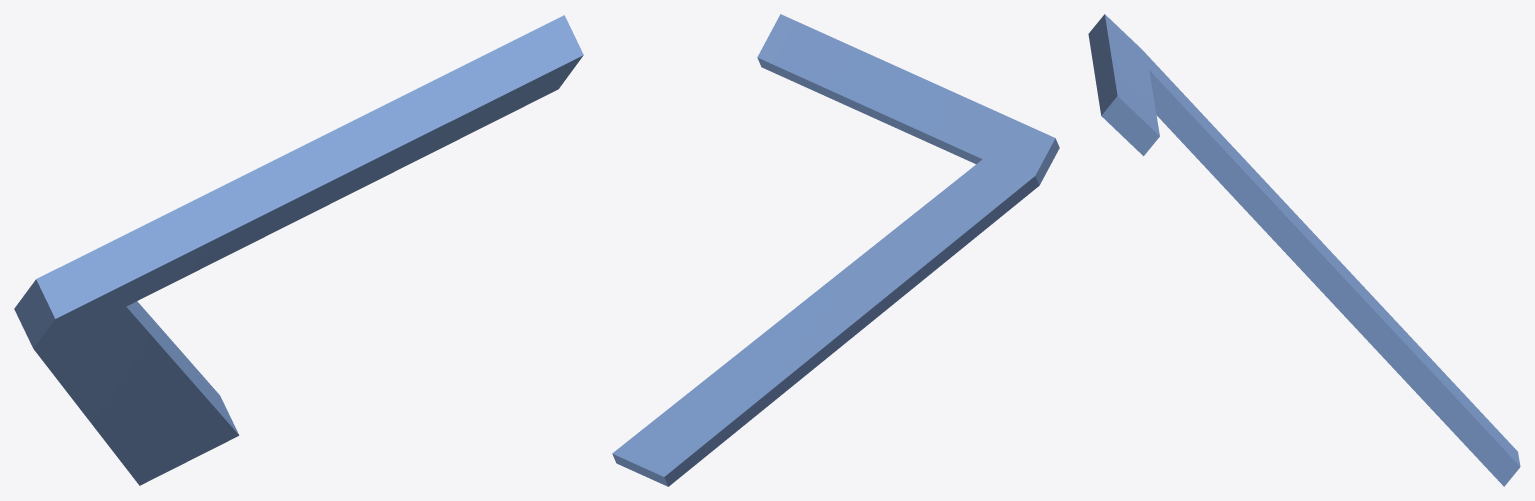
Rendered from New_Number_7.gltf.
3 renders of one model, left to right at view 1: azimuth 30°, elevation 25°; view 2: azimuth 150°, elevation 25°; view 3: azimuth 270°, elevation 25°, orthographic. The views are drawn at different scales.
Visible parts, largest first — view 1: Part 367; view 2: Part 367; view 3: Part 367.
Part boxes in pixels (<box>): Part 367: <box>14,15,583,485</box>; Part 367: <box>612,14,1059,486</box>; Part 367: <box>1088,14,1520,486</box>.
Bounding box in the file's own units: 0.00368 × 0.00433 × 0.0042.
